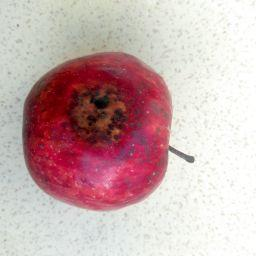apple: (6, 35, 211, 224)
